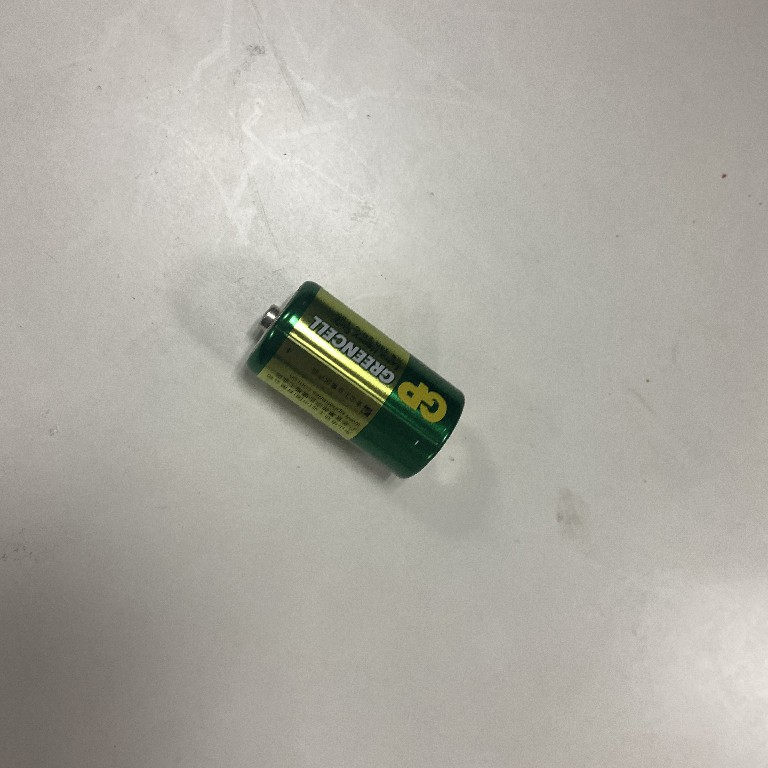charge: (238, 278, 469, 481)
